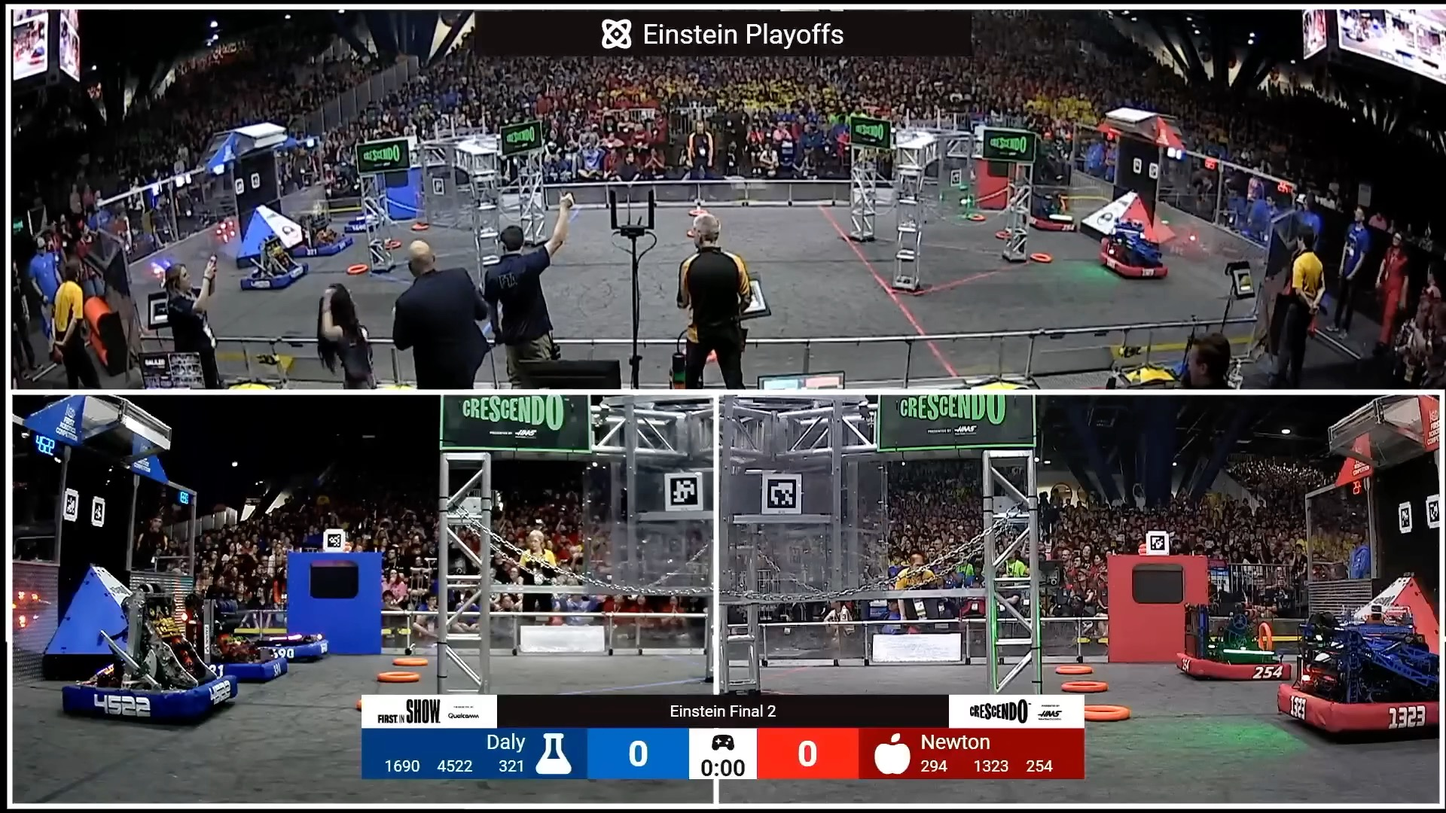bumpers: (1266, 669, 1429, 747), (78, 658, 249, 731), (1171, 645, 1297, 688), (1086, 240, 1187, 284), (191, 651, 298, 686), (236, 261, 321, 292), (283, 232, 362, 259), (256, 641, 338, 667), (1015, 211, 1081, 233), (343, 213, 388, 232)
